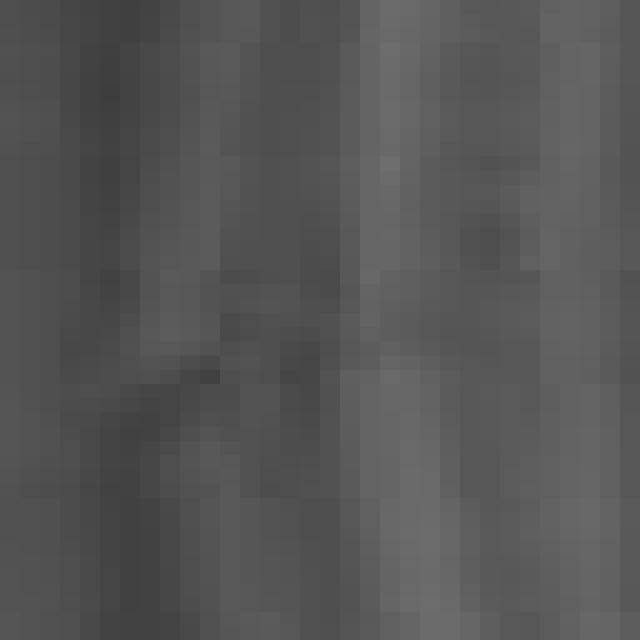fracture: (15, 3, 640, 640)
